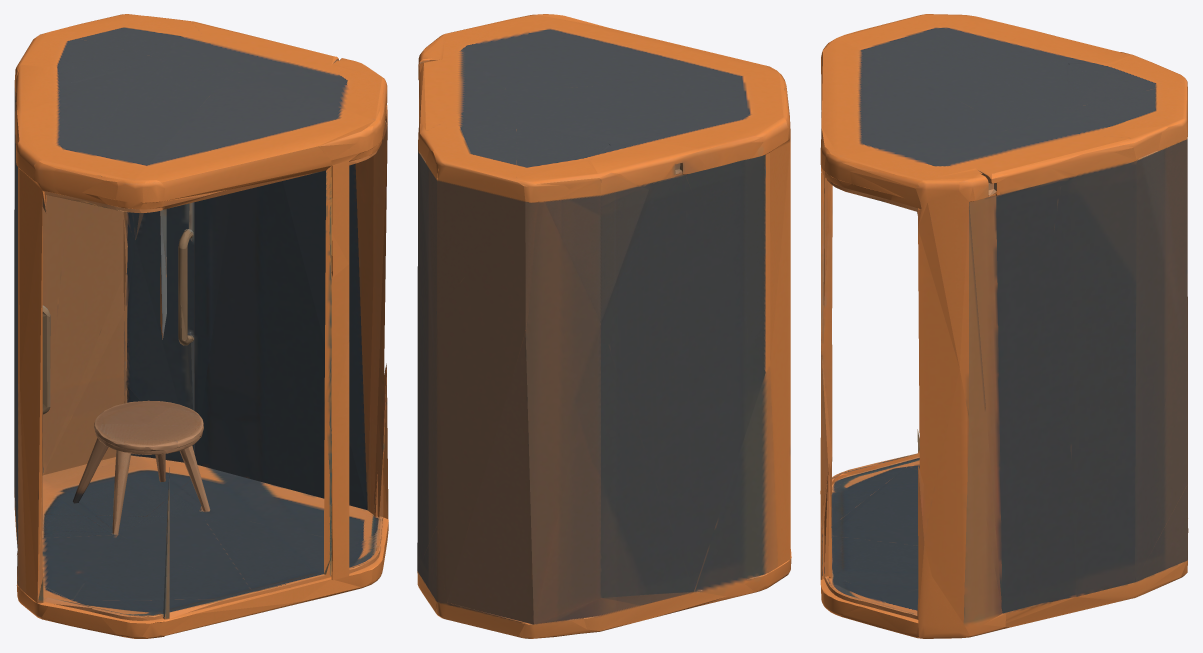
The picture shows the model from 3 angles, left to right: view 1: azimuth 30°, elevation 25°; view 2: azimuth 150°, elevation 25°; view 3: azimuth 270°, elevation 25°; orthographic projection.
Bounding box in the file's own units: 1.53 × 1.9 × 1.38.
Materials: 1 (1 with a texture image).
